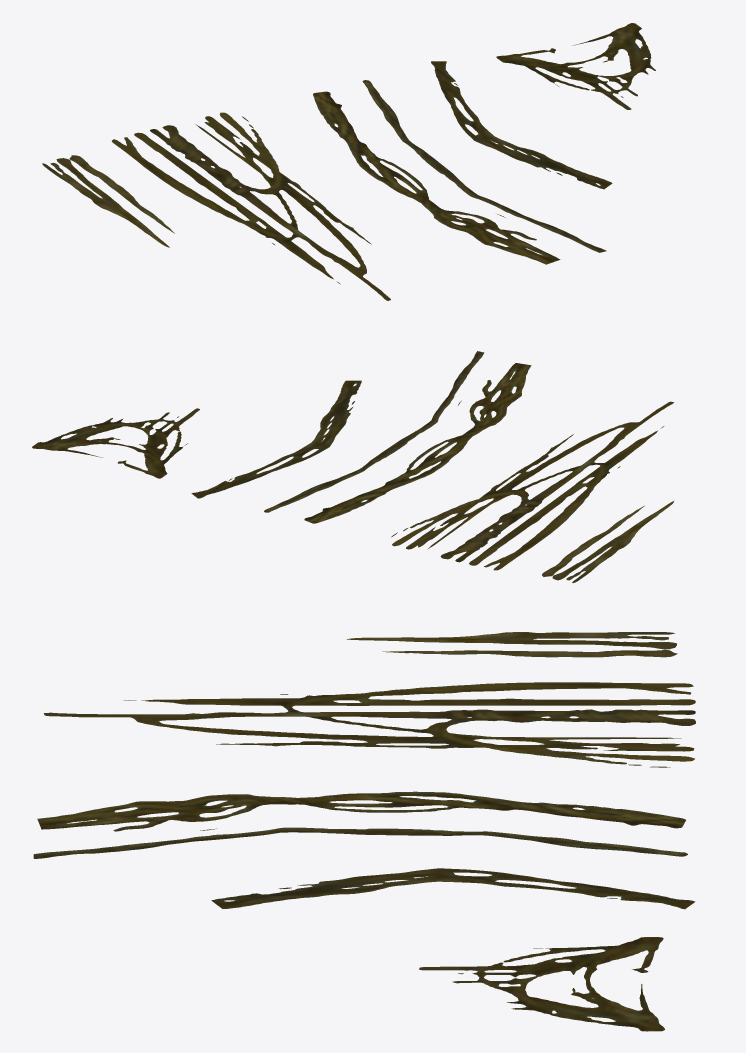
Rendered from 2_Misc_ShuGua_01.FBX.
3 views of the same model, one above another, from view 1: azimuth 30°, elevation 25°; view 2: azimuth 150°, elevation 25°; view 3: azimuth 270°, elevation 25° (orthographic). The views are drawn at different scales.
Parts seen in each view (by area): view 1: 2_Misc_ShuGua_01_05, 2_Misc_ShuGua_01_04, 2_Misc_ShuGua_01_01, 2_Misc_ShuGua_01_02, 2_Misc_ShuGua_01_06, 2_Misc_ShuGua_01_03; view 2: 2_Misc_ShuGua_01_05, 2_Misc_ShuGua_01_04, 2_Misc_ShuGua_01_01, 2_Misc_ShuGua_01_02, 2_Misc_ShuGua_01_06, 2_Misc_ShuGua_01_03; view 3: 2_Misc_ShuGua_01_05, 2_Misc_ShuGua_01_04, 2_Misc_ShuGua_01_01, 2_Misc_ShuGua_01_02, 2_Misc_ShuGua_01_06, 2_Misc_ShuGua_01_03.
Part boxes in pixels (box(x1,y1,x2,y2)): 2_Misc_ShuGua_01_05: box(112, 112, 390, 300); 2_Misc_ShuGua_01_04: box(313, 91, 560, 264); 2_Misc_ShuGua_01_01: box(496, 23, 655, 109); 2_Misc_ShuGua_01_02: box(431, 61, 612, 189); 2_Misc_ShuGua_01_06: box(42, 155, 174, 247); 2_Misc_ShuGua_01_03: box(362, 80, 606, 252); 2_Misc_ShuGua_01_05: box(391, 401, 673, 570); 2_Misc_ShuGua_01_04: box(304, 363, 531, 523); 2_Misc_ShuGua_01_01: box(32, 408, 199, 478); 2_Misc_ShuGua_01_02: box(191, 380, 361, 498); 2_Misc_ShuGua_01_06: box(542, 501, 673, 582); 2_Misc_ShuGua_01_03: box(264, 351, 484, 512); 2_Misc_ShuGua_01_05: box(44, 682, 695, 767); 2_Misc_ShuGua_01_04: box(37, 791, 685, 831); 2_Misc_ShuGua_01_01: box(419, 937, 664, 1031); 2_Misc_ShuGua_01_02: box(211, 868, 695, 909); 2_Misc_ShuGua_01_06: box(347, 632, 677, 657); 2_Misc_ShuGua_01_03: box(33, 827, 687, 858).
Size of the model in its own units: 579 by 1.23e-13 by 427.
